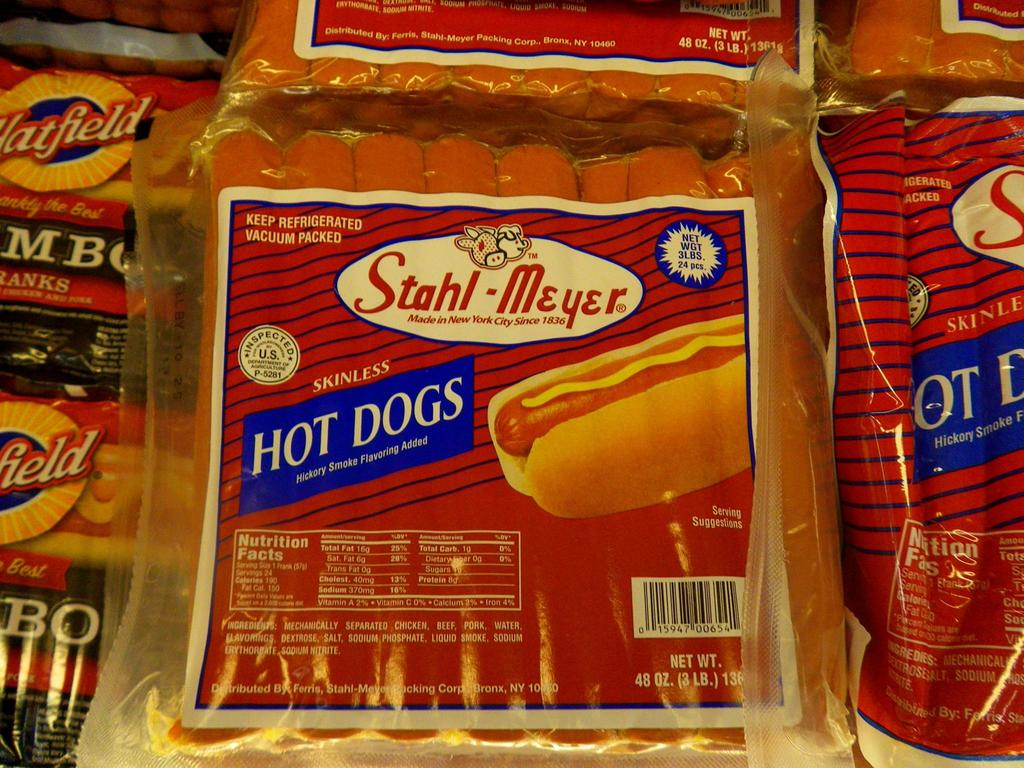hot_dog: (484, 309, 752, 522)
